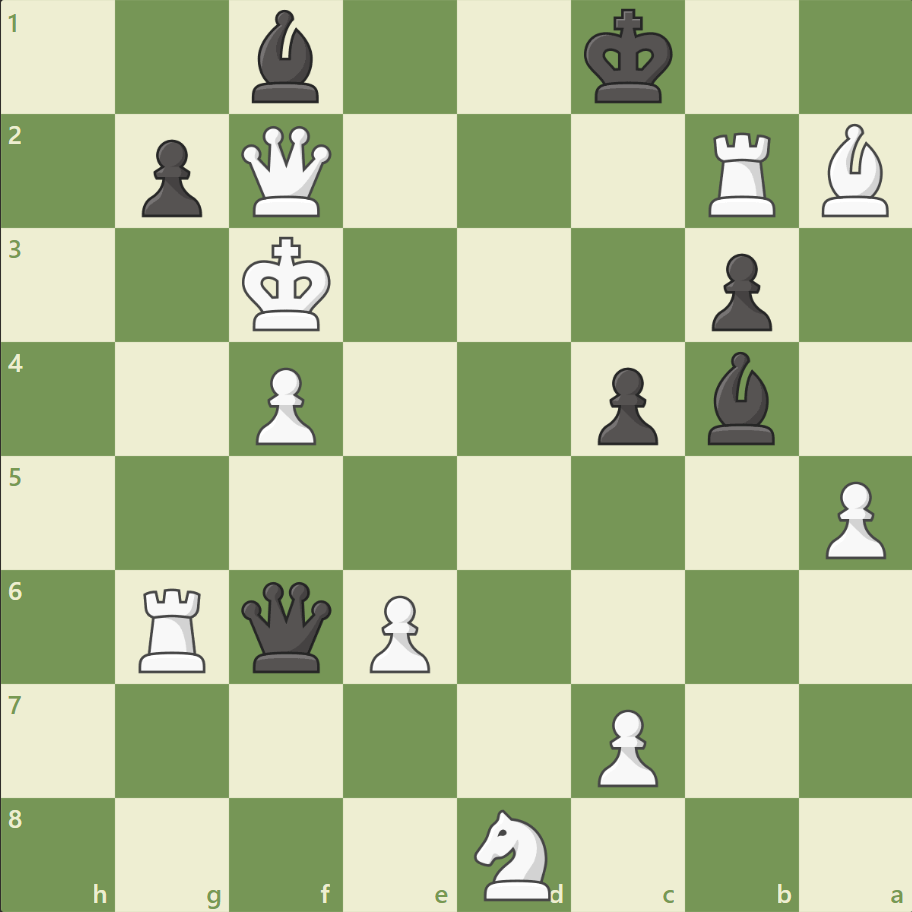B: (812, 120, 896, 222)
K: (238, 231, 338, 339)
N: (465, 802, 562, 904)
P: (247, 359, 322, 450), (588, 700, 662, 791), (361, 586, 435, 677), (815, 473, 889, 564)
Q: (237, 122, 336, 222)
R: (700, 125, 783, 222), (133, 579, 215, 676)
b: (244, 6, 328, 109), (698, 347, 782, 449)
k: (579, 4, 679, 112)
p: (701, 246, 776, 337), (133, 132, 208, 223), (588, 359, 662, 450)
q: (237, 576, 336, 676)
